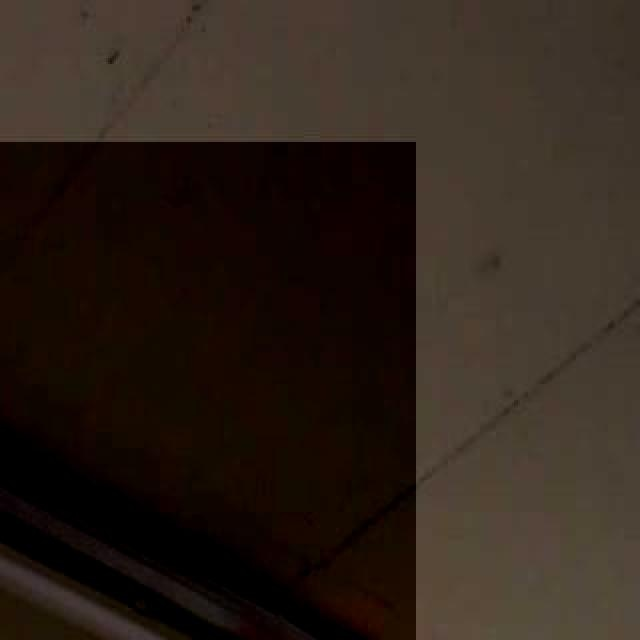fluorescent tube: (0, 220, 400, 640)
